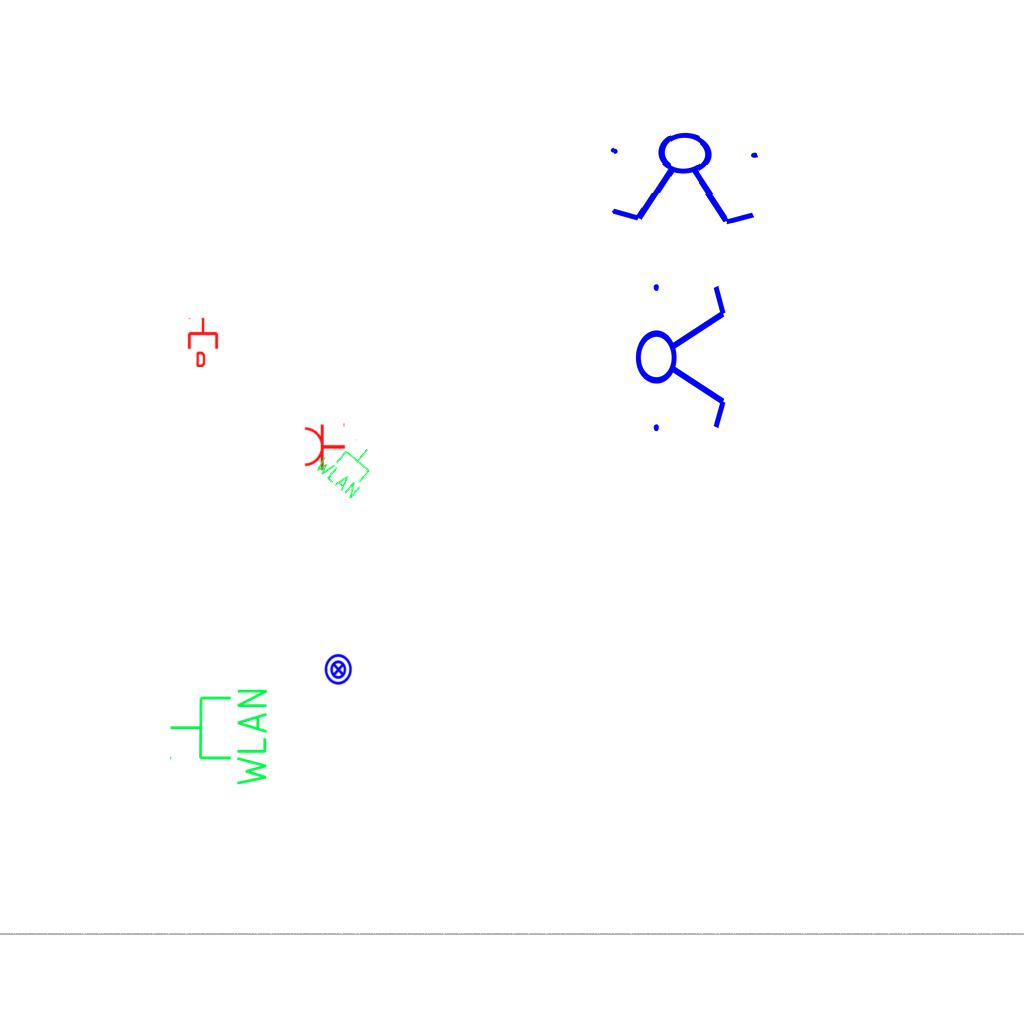Datenanschluss_einfach: (186, 317, 220, 367)
Schukosteckdose_einfach: (303, 421, 346, 471)
Serienschalter: (599, 128, 771, 230), (634, 272, 730, 440)
Taster_beleuchtet: (322, 653, 355, 686)
WLAN: (167, 685, 271, 790), (311, 428, 385, 502)
